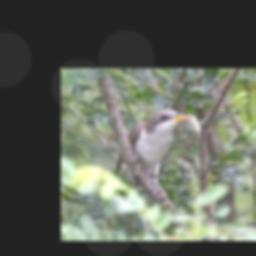Cuckoo: (116, 109, 190, 178)
